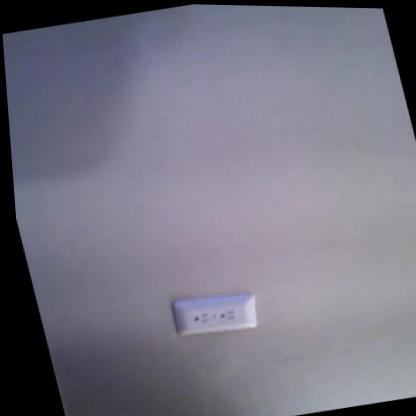OUTLET: (168, 287, 262, 342)
